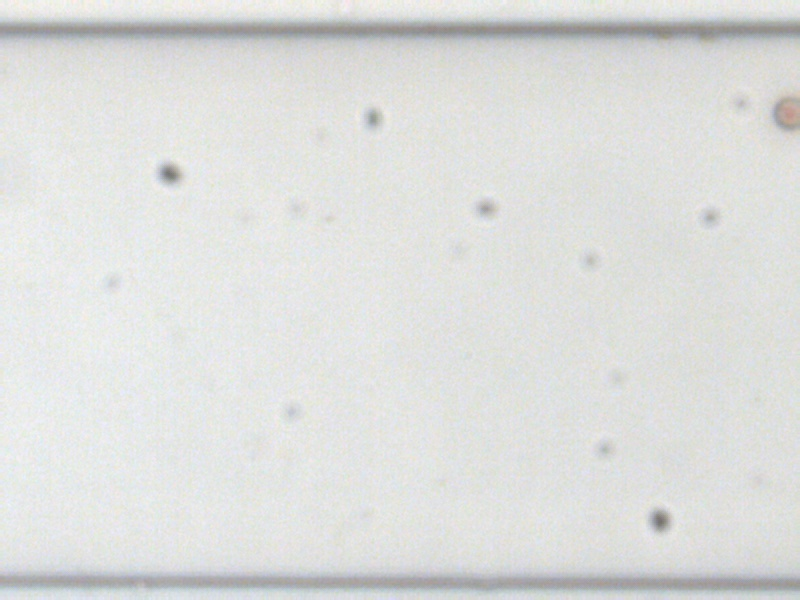Porphyridium: (770, 98, 799, 130)
